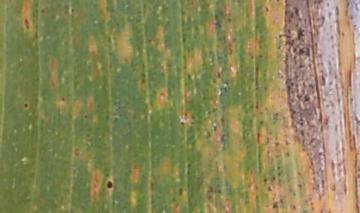tarspot: (23, 17, 32, 31), (105, 179, 114, 190), (22, 101, 31, 110), (215, 70, 222, 79), (39, 8, 46, 15), (179, 120, 186, 126), (264, 5, 269, 13), (61, 95, 66, 103), (69, 7, 75, 13), (83, 113, 88, 120), (274, 1, 281, 3)
